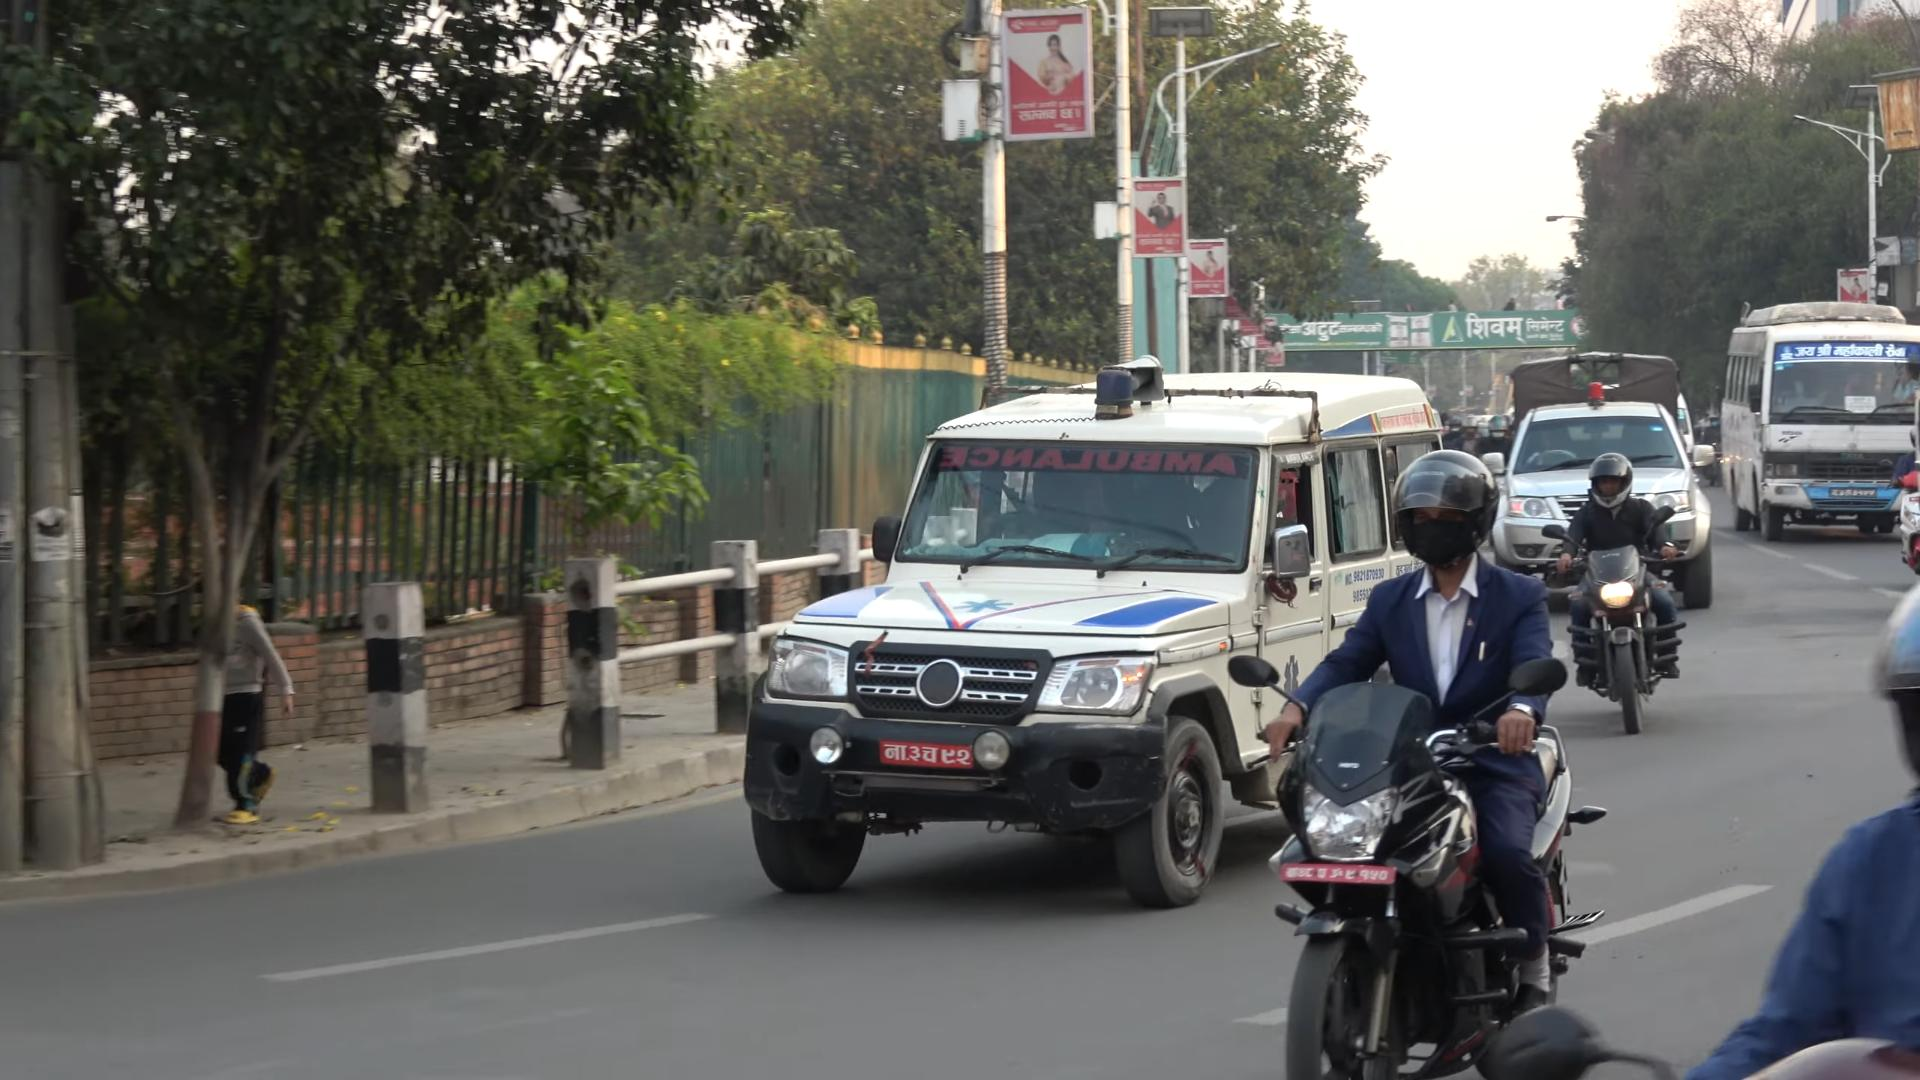ambulance: (733, 352, 1486, 915)
bike: (1217, 646, 1600, 1080), (1534, 506, 1692, 737)
bus: (1722, 291, 1920, 543)
police_vehicle: (1486, 343, 1730, 613)
